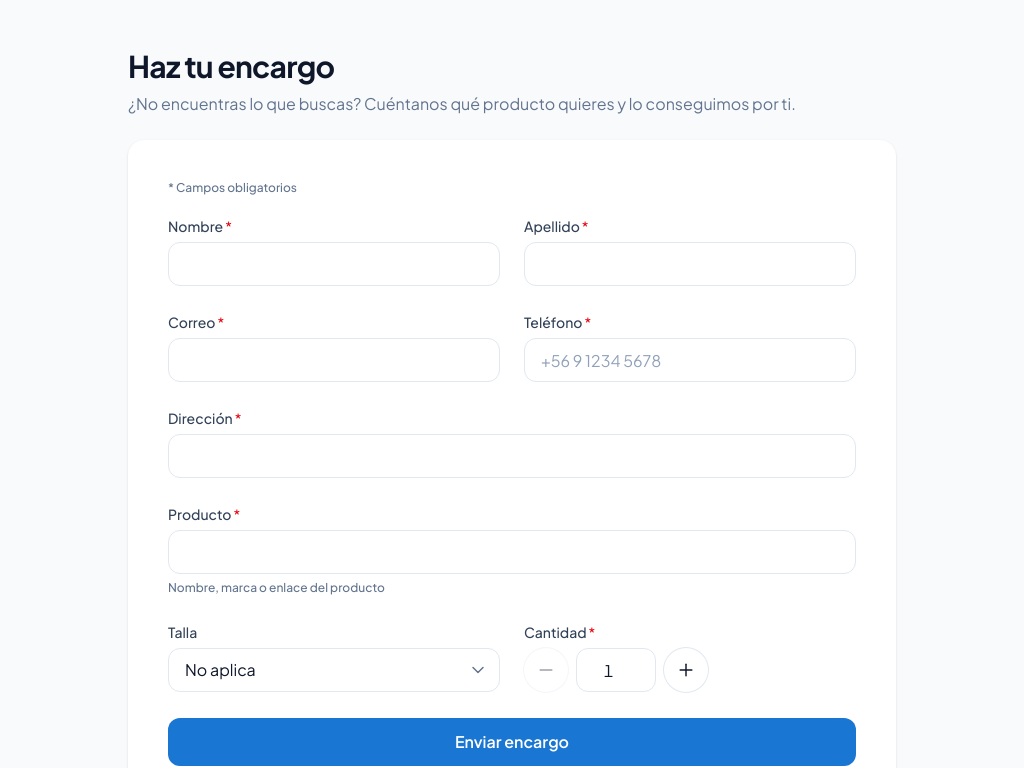
Test: EncargarPage › con datos válidos hace el POST con el cuerpo del contrato, el Idempotency-Key y talla null
Type "  Ana " into the field labelled "Nombre" at point(334, 264), box [168, 242, 500, 286]
Type "Pérez" into the field labelled "Apellido" at point(690, 264), box [524, 242, 856, 286]
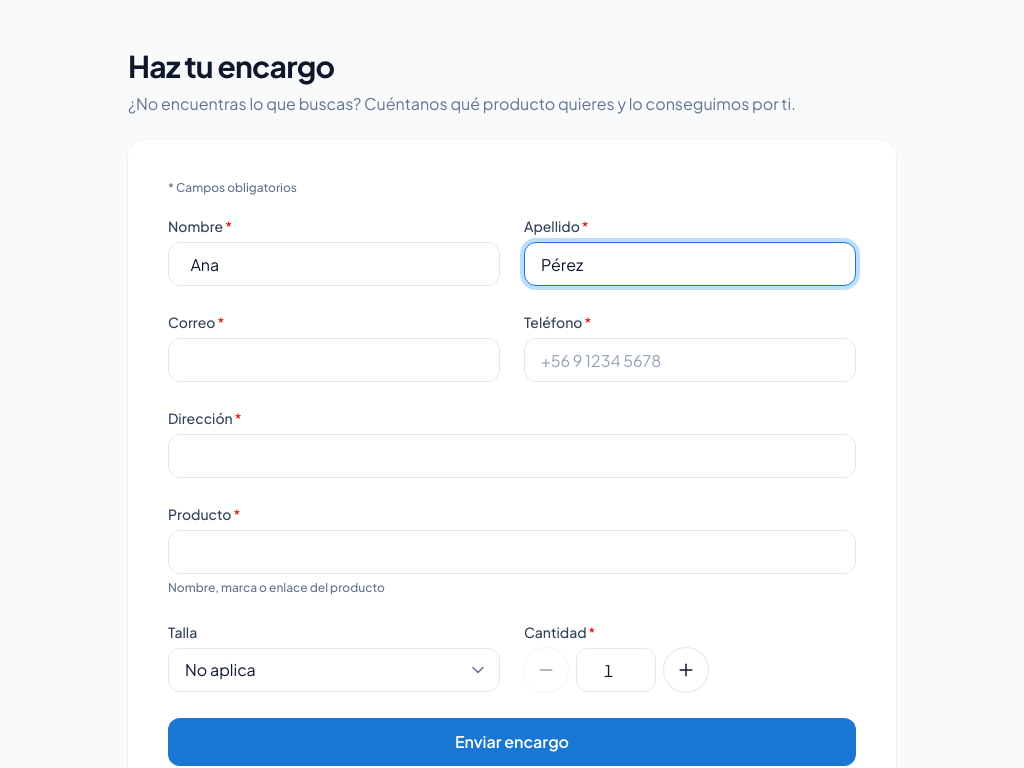
Type "ana@correo.cl" into the field labelled "Correo" at point(334, 360), box [168, 338, 500, 382]
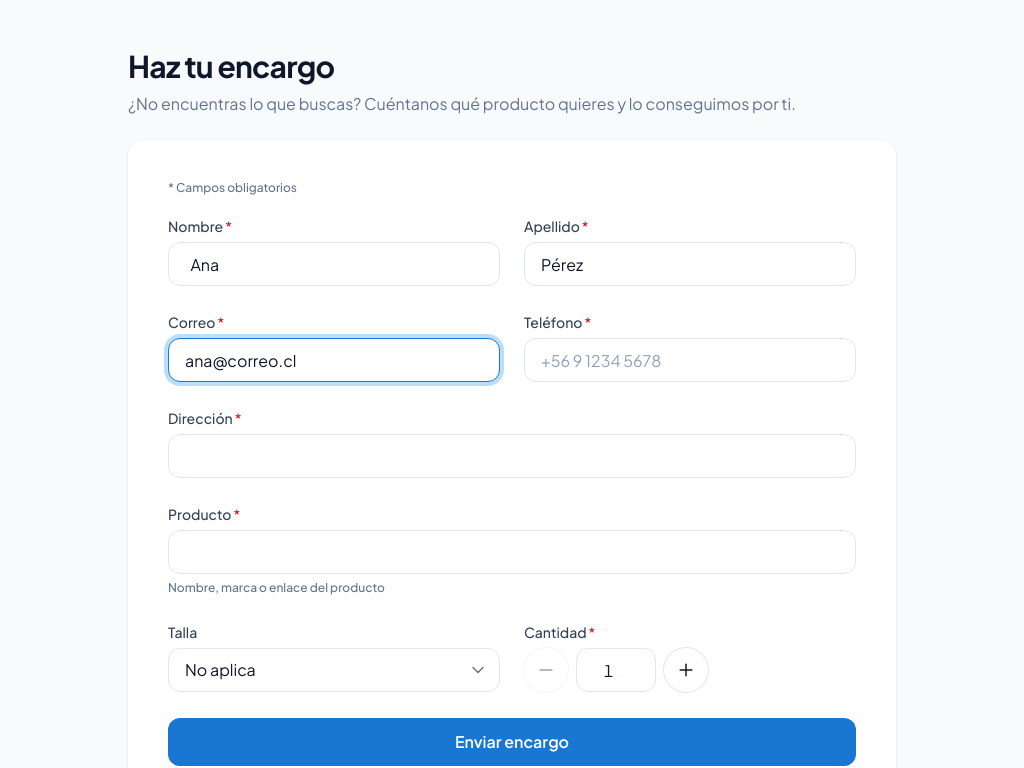
Type "9 1234 5678" into the field labelled "Teléfono" at point(690, 360), box [524, 338, 856, 382]
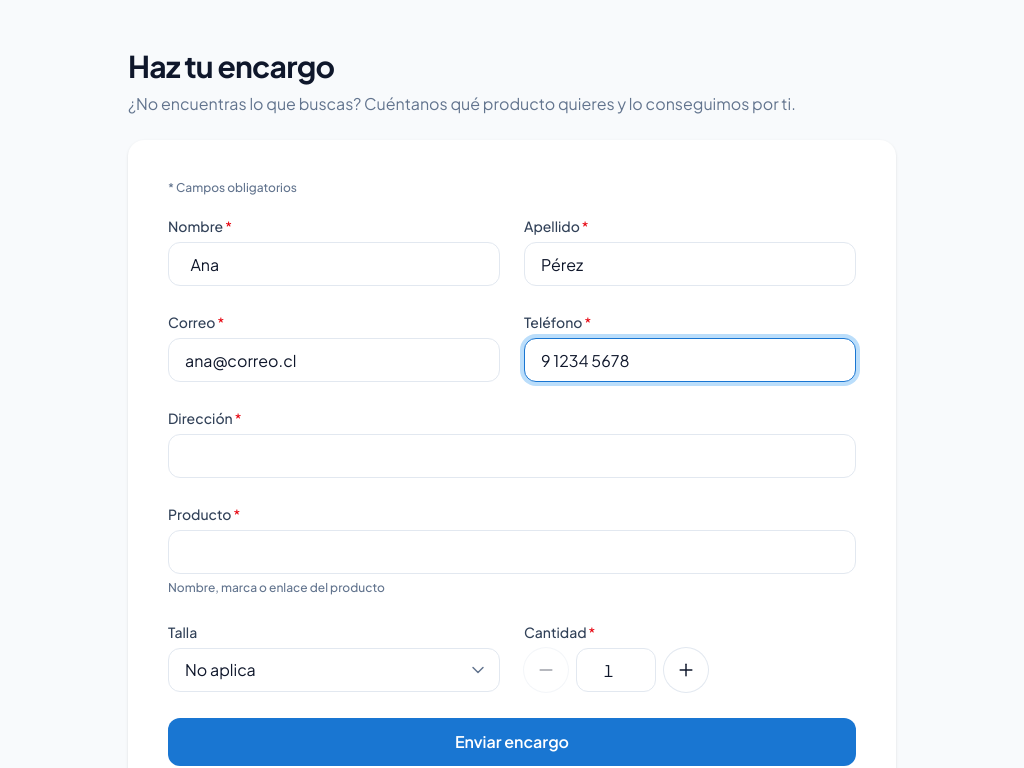
Type "Av. Siempre Viva 742, Santiago" into the field labelled "Dirección" at point(512, 456), box [168, 434, 856, 478]
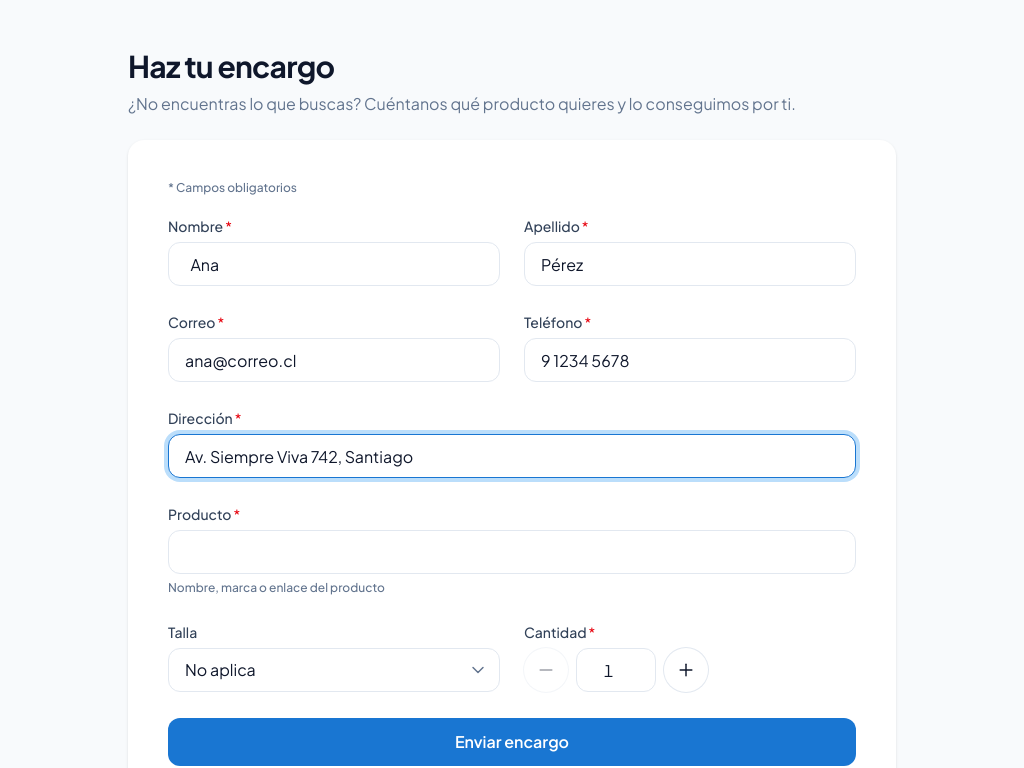
Type "Zapatillas Nike Air Max" into the field labelled "Producto" at point(512, 552), box [168, 530, 856, 574]
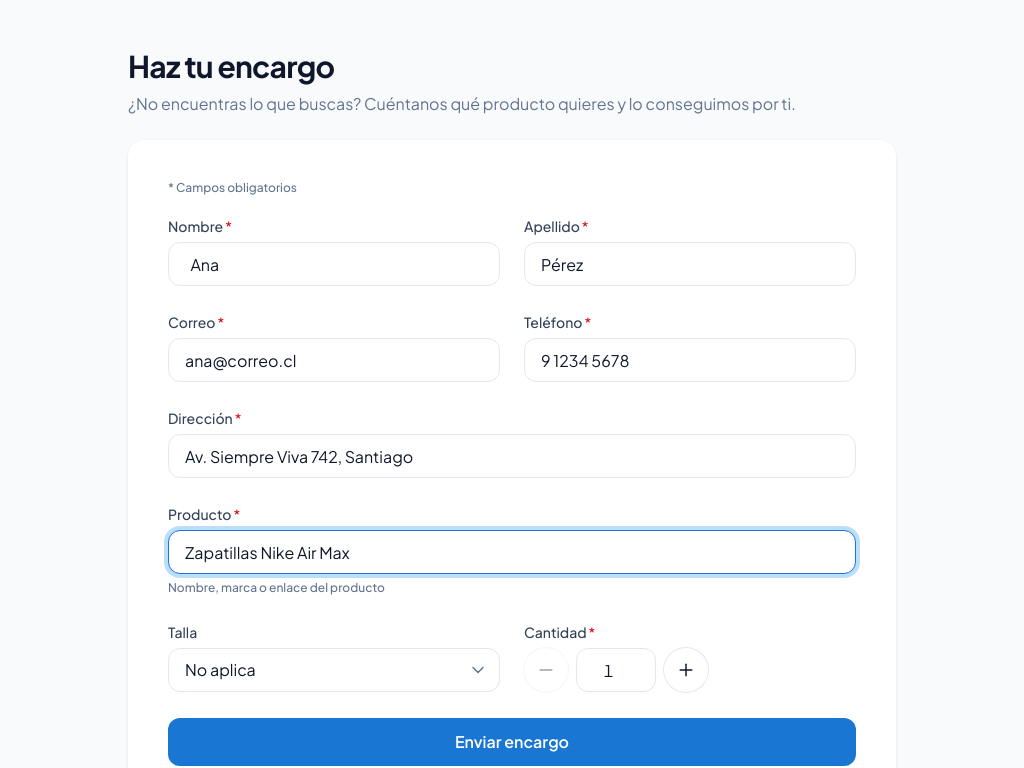
Click the button "Enviar encargo" at point(512, 742), box [168, 718, 856, 766]
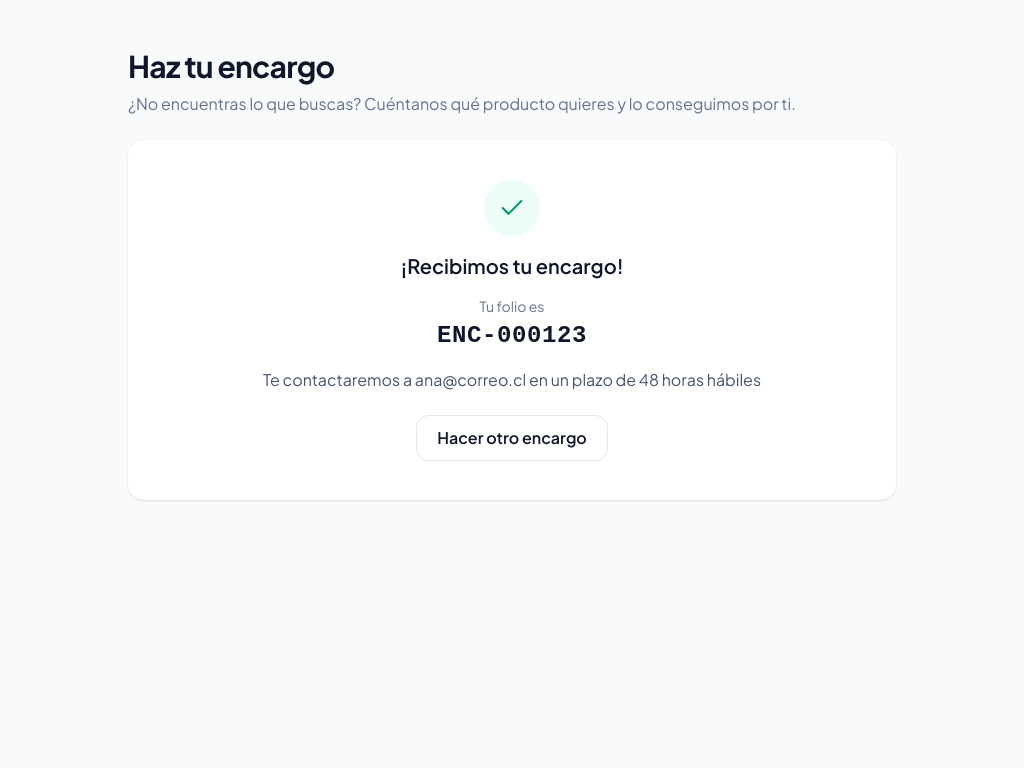
Now the heading "¡Recibimos tu encargo!" is shown, box [400, 252, 624, 280]
